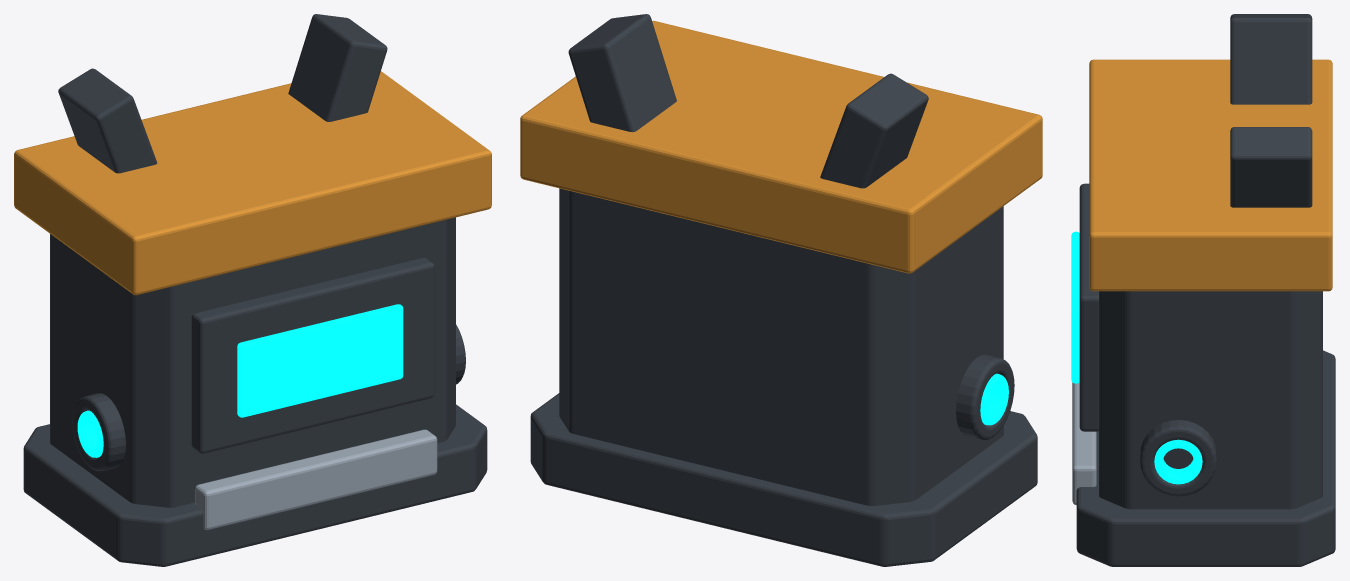
File: SM_RobotCenter_MainCore.fbx
The picture shows the model from 3 angles, left to right: view 1: azimuth 30°, elevation 25°; view 2: azimuth 150°, elevation 25°; view 3: azimuth 270°, elevation 25°; orthographic projection. The views are drawn at different scales.
Parts seen in each view (by area): view 1: SM_RobotCenter_MainCore.001; view 2: SM_RobotCenter_MainCore.001; view 3: SM_RobotCenter_MainCore.001.
Boxes of the visible parts, box(x1,y1,x2,y2) form: SM_RobotCenter_MainCore.001: box(14, 14, 491, 566); SM_RobotCenter_MainCore.001: box(520, 14, 1042, 566); SM_RobotCenter_MainCore.001: box(1071, 14, 1335, 566).
Size of the model in its own units: 220 by 355 by 371.
